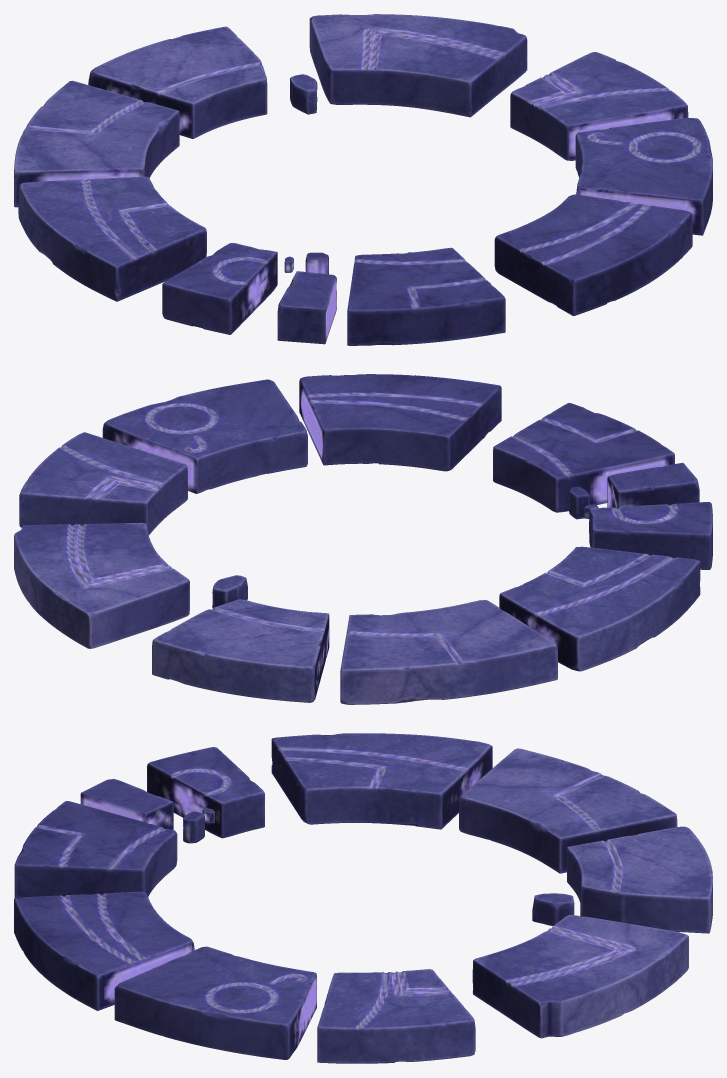
File: sky_ring_03a_nexus_v35.glb
3 views of the same model, one above another, from view 1: azimuth 30°, elevation 25°; view 2: azimuth 150°, elevation 25°; view 3: azimuth 270°, elevation 25° (orthographic).
Visible parts, largest first — view 1: ring_03a; view 2: ring_03a; view 3: ring_03a.
Boxes of the visible parts, <box> form: ring_03a: <box>14,14,712,345</box>; ring_03a: <box>14,374,712,704</box>; ring_03a: <box>14,733,712,1063</box>.
Size of the model in its own units: 87.64 by 4.96 by 87.53.
1 material, 1 textured.
